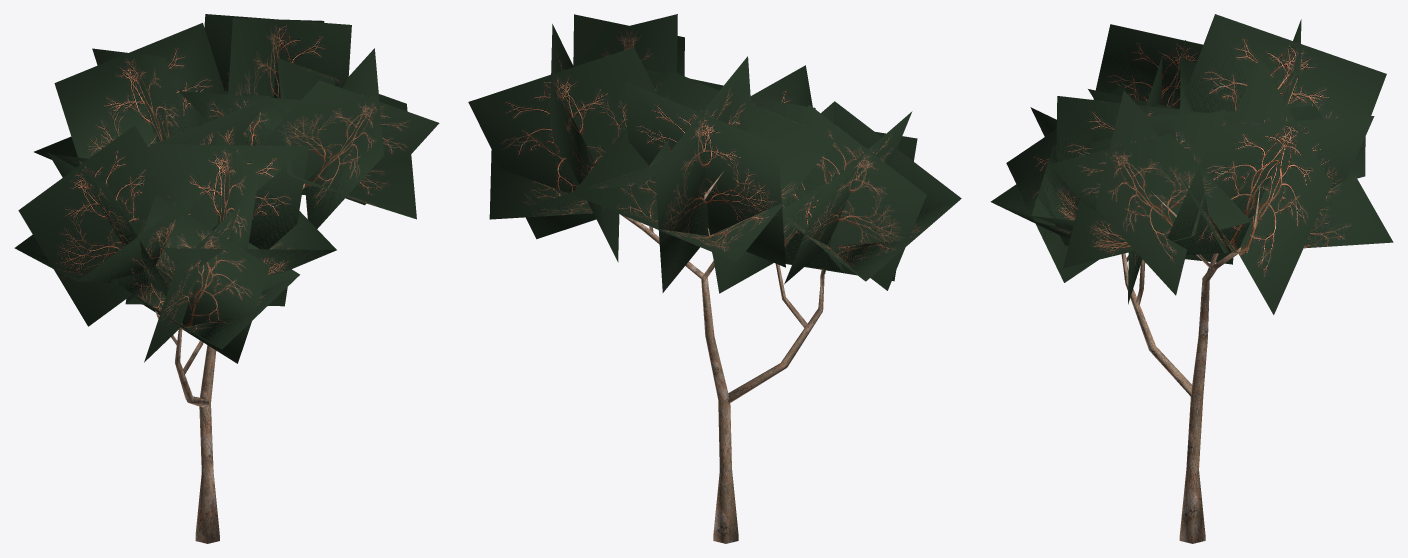
Rendered from decd_ginkgotreebranches_l0.fbx.
The picture shows the model from 3 angles, left to right: view 1: azimuth 30°, elevation 25°; view 2: azimuth 150°, elevation 25°; view 3: azimuth 270°, elevation 25°; orthographic projection. The views are drawn at different scales.
Visible parts, largest first — view 1: mesh_node; view 2: mesh_node; view 3: mesh_node.
Part boxes in pixels (box(x1,y1,x2,y2)): mesh_node: box(14, 14, 439, 543); mesh_node: box(468, 14, 961, 543); mesh_node: box(990, 14, 1393, 543).
Bounding box in the file's own units: 3.19 × 3.66 × 2.63.
3 materials, 3 textured.
